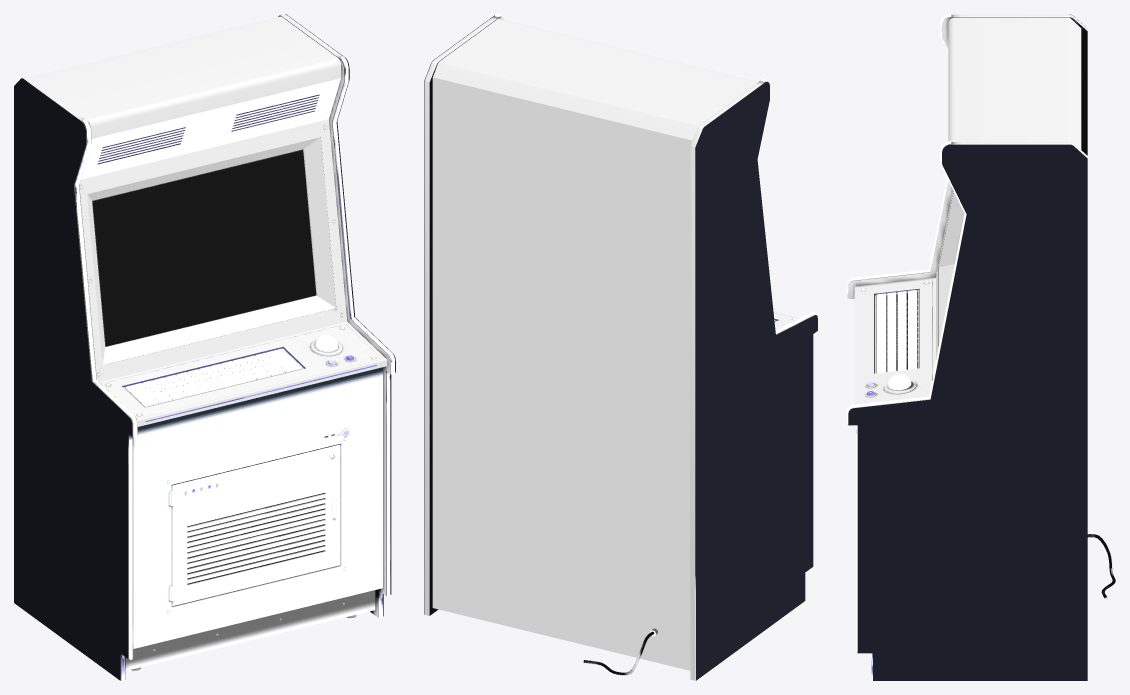
Rendered from mach-snapsize-v2.glb.
The picture shows the model from 3 angles, left to right: view 1: azimuth 30°, elevation 25°; view 2: azimuth 150°, elevation 25°; view 3: azimuth 270°, elevation 25°; orthographic projection. The views are drawn at different scales.
Parts seen in each view (by area): view 1: body, side_art_l, screen, glass, trim, controls, side_art_r; view 2: body, side_art_l, side_art_r; view 3: side_art_r, body, controls, trim, trackball.
Part boxes in pixels (left/top/right/bottom): body: left=22, top=14, right=395, bottom=680; side_art_l: left=14, top=78, right=132, bottom=680; screen: left=92, top=150, right=315, bottom=346; glass: left=93, top=150, right=316, bottom=346; trim: left=75, top=56, right=394, bottom=680; controls: left=123, top=309, right=348, bottom=493; side_art_r: left=285, top=14, right=395, bottom=615; body: left=424, top=16, right=814, bottom=680; side_art_l: left=696, top=81, right=817, bottom=680; side_art_r: left=424, top=15, right=494, bottom=614; side_art_r: left=848, top=144, right=1087, bottom=680; body: left=848, top=14, right=1087, bottom=411; controls: left=874, top=290, right=919, bottom=373; trim: left=846, top=14, right=966, bottom=680; trackball: left=884, top=374, right=915, bottom=393.
Bounding box in the file's own units: 1 × 1.94 × 0.8793.
24 materials, 7 textured.
